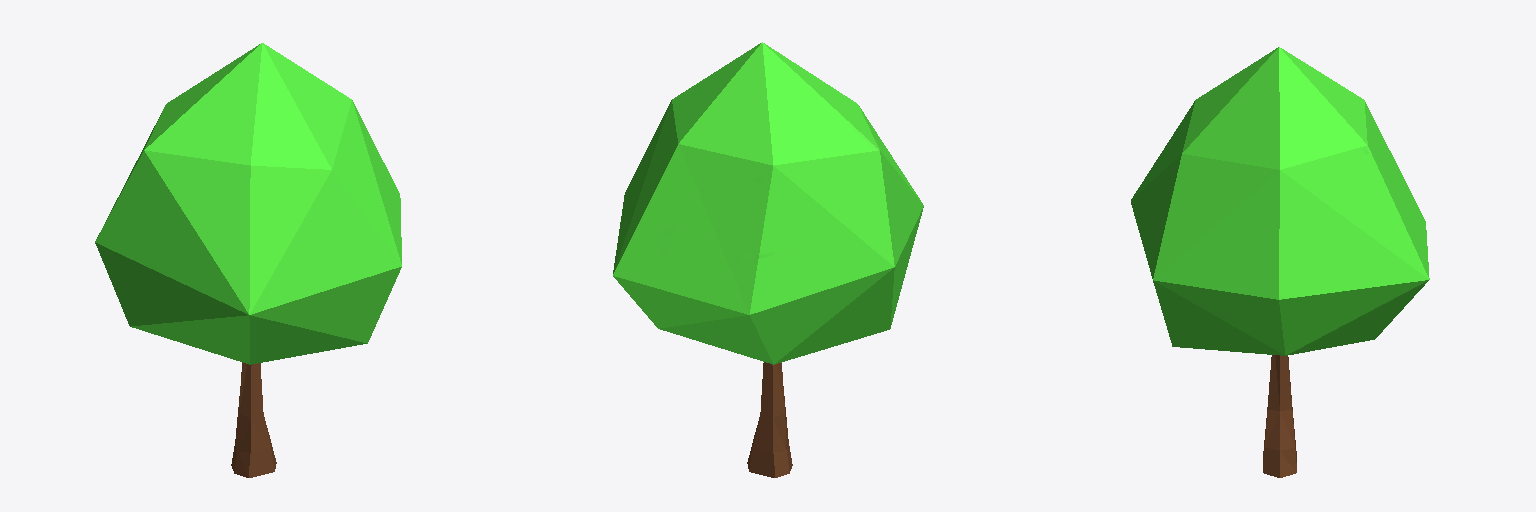
3 views of the same model, side by side, from view 1: azimuth 30°, elevation 25°; view 2: azimuth 150°, elevation 25°; view 3: azimuth 270°, elevation 25° (orthographic).
Parts seen in each view (by area): view 1: Tree.001; view 2: Tree.001; view 3: Tree.001.
Boxes of the visible parts, x1,y1,x2,y2 form: Tree.001: [95, 43, 401, 477]; Tree.001: [613, 42, 923, 477]; Tree.001: [1131, 47, 1429, 477].
Size of the model in its own units: 1.5 by 2.11 by 1.35.
Materials: 1 (1 with a texture image).